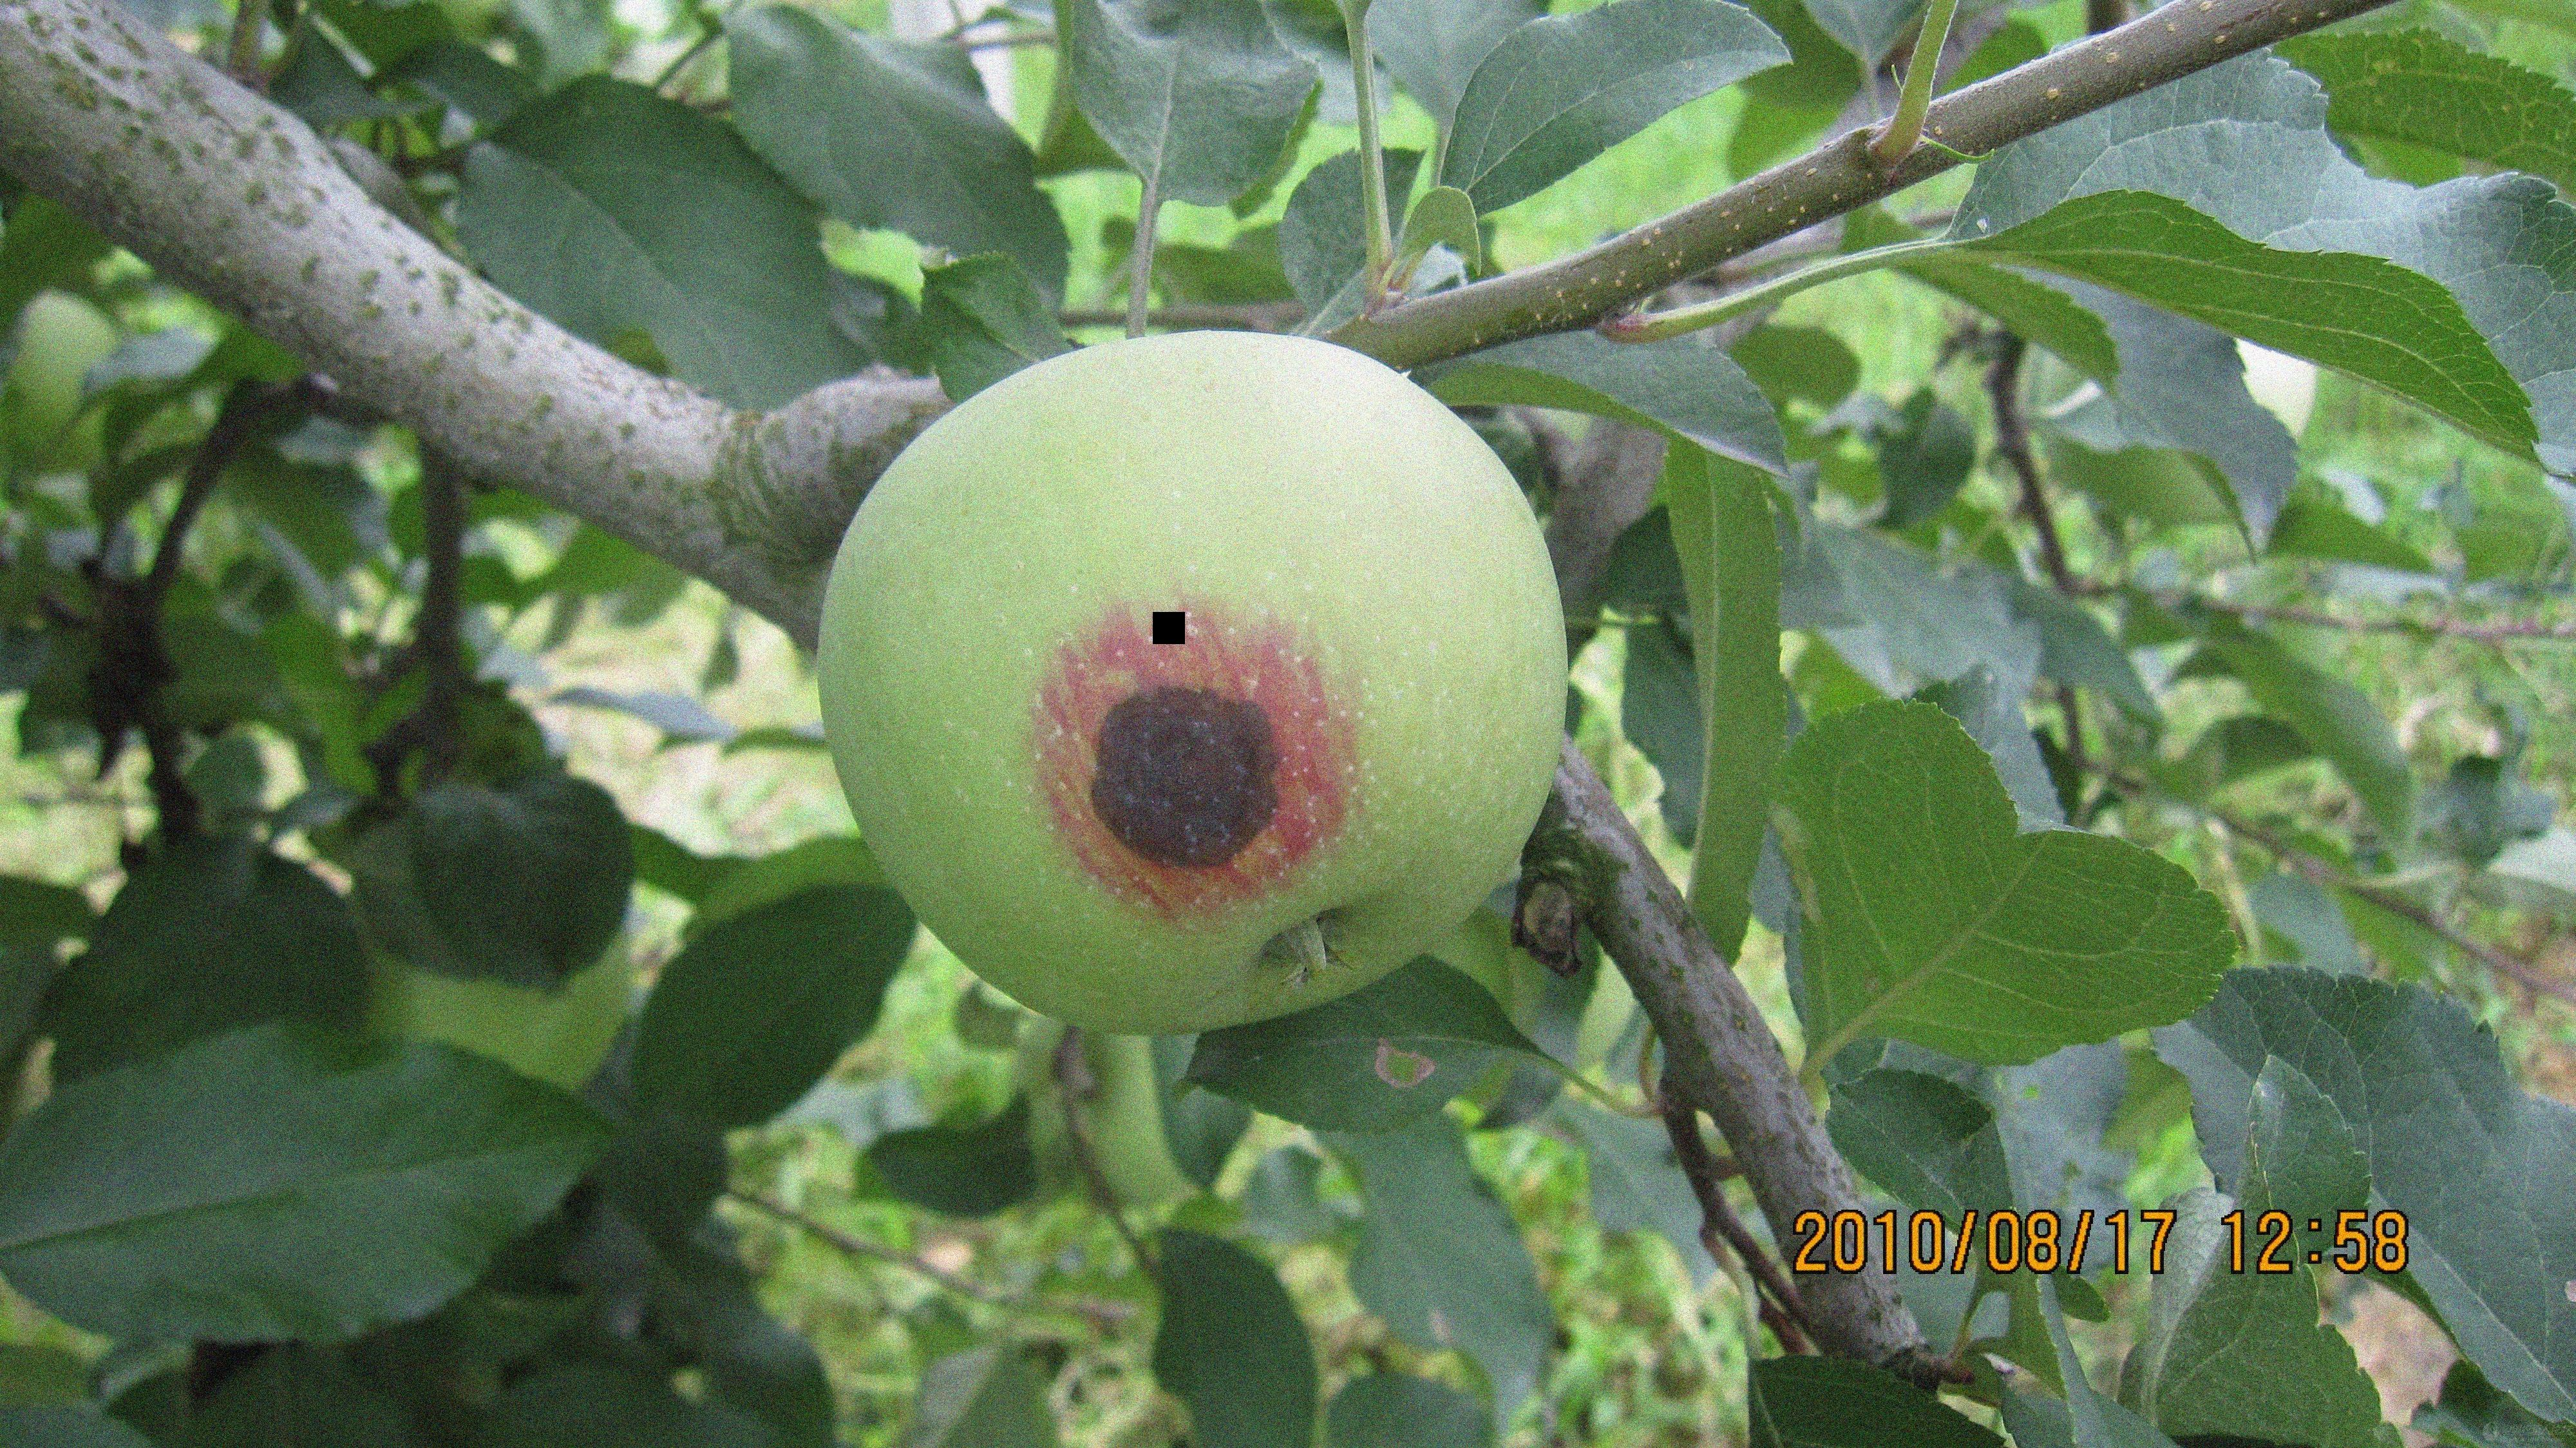rotten apple: (784, 319, 1576, 1030)
